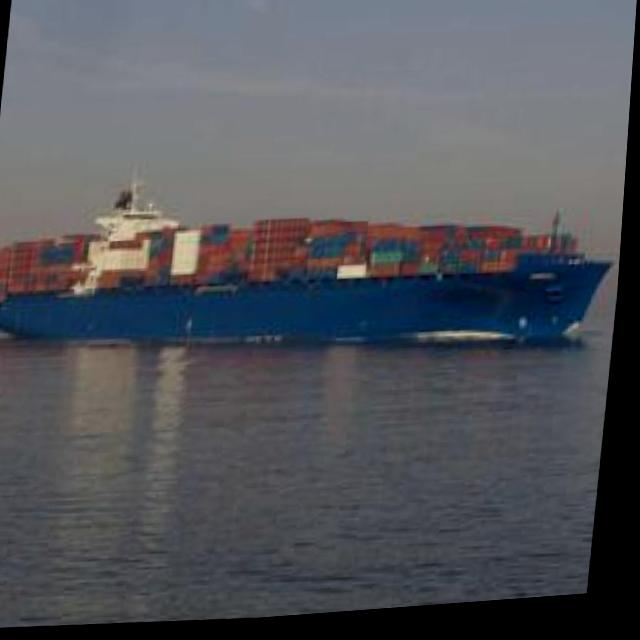ship2: (0, 167, 619, 355)
